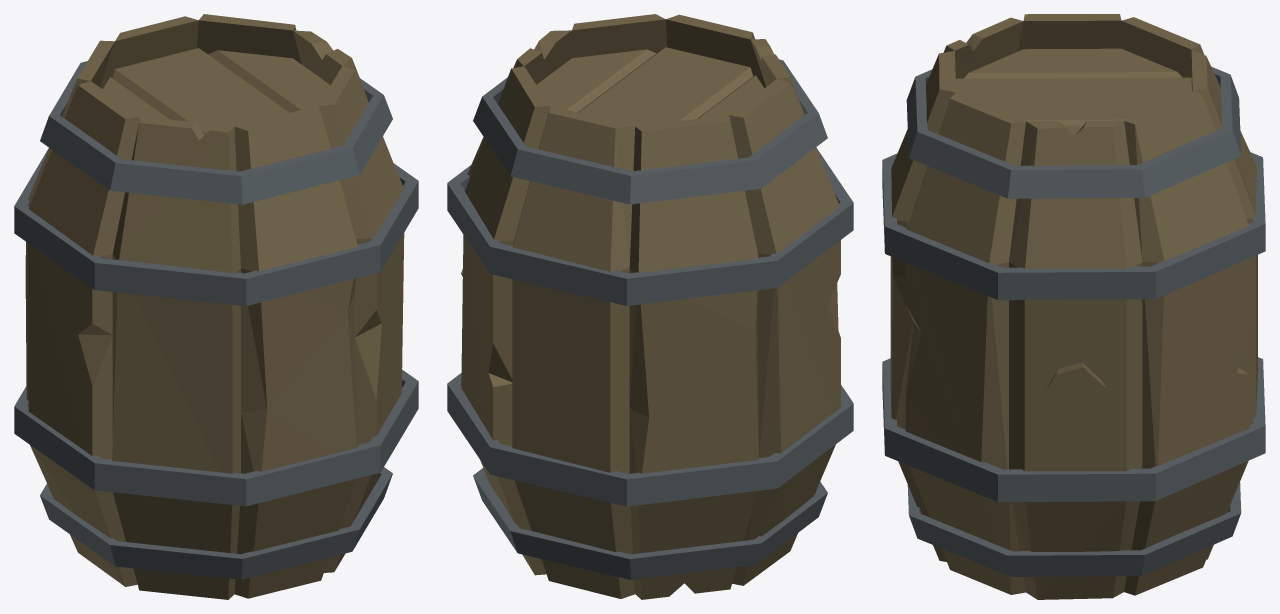
Rendered from SM_Barrel_Destructible.fbx.
3 renders of one model, left to right at view 1: azimuth 30°, elevation 25°; view 2: azimuth 150°, elevation 25°; view 3: azimuth 270°, elevation 25°, orthographic.
Parts seen in each view (by area): view 1: Plank_02, Plank_03, Plank_01, Plank_04, Ring_Lrg_Top, Ring_Lrg_Btm, Ring_Sm_Top, End_Top, Ring_Sm_Btm, Plank_05, Plank_06, Plank_Plug (+1 smaller); view 2: Plank_07, Plank_06, Plank_01, Plank_05, Ring_Lrg_Top, Ring_Lrg_Btm, Ring_Sm_Top, End_Top, Ring_Sm_Btm, Plank_04, Plank_03, Plank_Plug (+1 smaller); view 3: Plank_Plug, Plank_05, Plank_04, Ring_Lrg_Top, Ring_Lrg_Btm, Ring_Sm_Top, End_Top, Ring_Sm_Btm, Plank_03, Plank_06, Plank_01, Plank_07 (+2 smaller).
Boxes of the visible parts, left/top/right/bottom form: Plank_02: left=112, top=116, right=240, bottom=599; Plank_03: left=234, top=106, right=357, bottom=598; Plank_01: left=28, top=81, right=140, bottom=586; Plank_04: left=318, top=66, right=404, bottom=572; Ring_Lrg_Top: left=14, top=148, right=418, bottom=305; Ring_Lrg_Btm: left=14, top=369, right=418, bottom=506; Ring_Sm_Top: left=40, top=61, right=392, bottom=204; End_Top: left=102, top=48, right=330, bottom=134; Ring_Sm_Btm: left=40, top=467, right=392, bottom=579; Plank_05: left=197, top=14, right=301, bottom=64; Plank_06: left=100, top=16, right=198, bottom=88; Plank_Plug: left=293, top=30, right=391, bottom=158; Plank_07: left=629, top=115, right=758, bottom=599; Plank_06: left=512, top=106, right=635, bottom=598; Plank_01: left=729, top=79, right=840, bottom=585; Plank_05: left=461, top=66, right=550, bottom=575; Ring_Lrg_Top: left=447, top=149, right=853, bottom=305; Ring_Lrg_Btm: left=447, top=373, right=853, bottom=506; Ring_Sm_Top: left=473, top=59, right=827, bottom=204; End_Top: left=537, top=47, right=764, bottom=125; Ring_Sm_Btm: left=473, top=468, right=827, bottom=579; Plank_04: left=563, top=14, right=667, bottom=64; Plank_03: left=665, top=14, right=765, bottom=87; Plank_Plug: left=467, top=30, right=571, bottom=176; Plank_Plug: left=1009, top=120, right=1142, bottom=599; Plank_05: left=1124, top=91, right=1249, bottom=595; Plank_04: left=905, top=92, right=1025, bottom=594; Ring_Lrg_Top: left=882, top=152, right=1265, bottom=300; Ring_Lrg_Btm: left=882, top=357, right=1265, bottom=502; Ring_Sm_Top: left=906, top=67, right=1241, bottom=198; End_Top: left=955, top=48, right=1191, bottom=135; Ring_Sm_Btm: left=907, top=482, right=1241, bottom=576; Plank_03: left=890, top=51, right=955, bottom=561; Plank_06: left=1191, top=50, right=1257, bottom=559; Plank_01: left=1018, top=14, right=1126, bottom=51; Plank_07: left=1121, top=17, right=1204, bottom=91.
Bounding box in the file's own units: 0.8845 × 1.17 × 0.8621.
